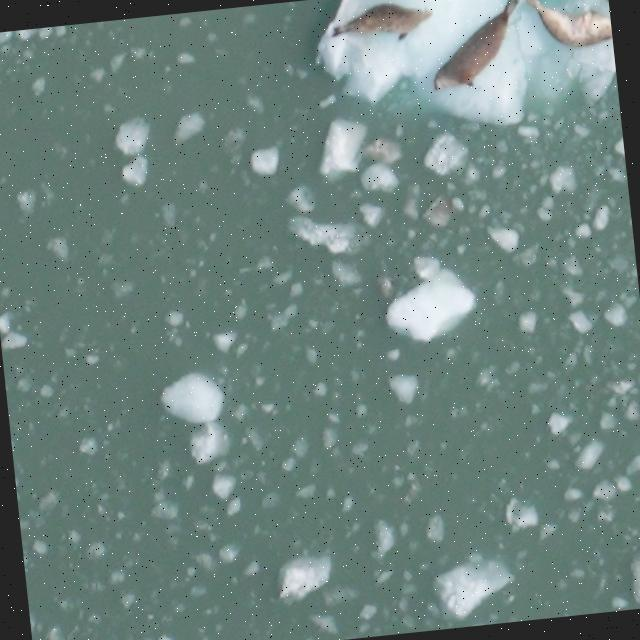seal: (423, 0, 528, 96), (324, 0, 436, 52), (524, 0, 613, 55)
